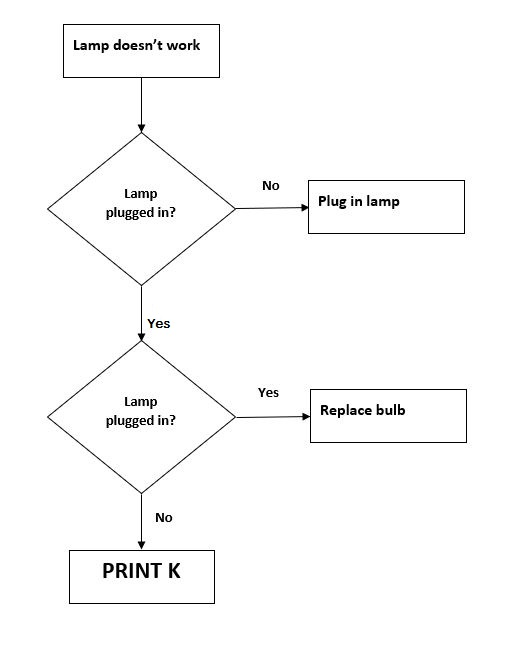arrow: (234, 202, 307, 214), (133, 74, 147, 135), (134, 491, 148, 549), (135, 283, 147, 343), (233, 412, 311, 420)
decision: (44, 132, 237, 287), (45, 341, 237, 493)
process: (305, 176, 468, 239), (306, 385, 470, 447), (60, 22, 224, 81), (66, 547, 219, 607)
text: (103, 184, 180, 225), (104, 392, 177, 435), (71, 37, 202, 55), (99, 558, 185, 580), (313, 191, 403, 212), (316, 402, 407, 419), (254, 384, 281, 400), (144, 317, 172, 332), (150, 510, 174, 526), (258, 176, 280, 192)
